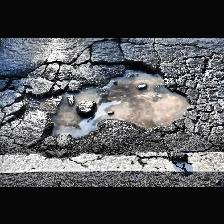pothole: (27, 55, 195, 156)
